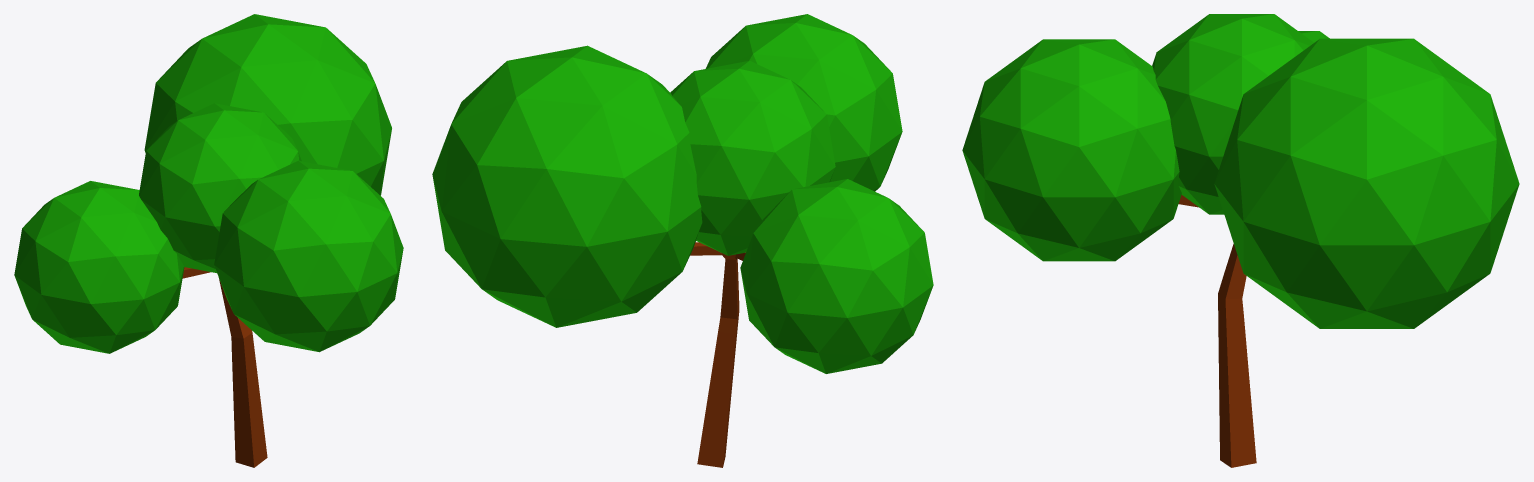
File: SmallTree.fbx
3 renders of one model, left to right at view 1: azimuth 30°, elevation 25°; view 2: azimuth 150°, elevation 25°; view 3: azimuth 270°, elevation 25°, orthographic. The views are drawn at different scales.
Parts seen in each view (by area): view 1: Icosphere.002, Icosphere.001, Icosphere, Icosphere.003, Cube; view 2: Icosphere.001, Icosphere, Icosphere.003, Icosphere.002, Cube; view 3: Icosphere.001, Icosphere.002, Icosphere.003, Cube.
Boxes of the visible parts, x1,y1,x2,y2 form: Icosphere.002: [214, 160, 403, 352]; Icosphere.001: [144, 14, 391, 195]; Icosphere: [14, 181, 184, 353]; Icosphere.003: [139, 103, 301, 272]; Cube: [182, 267, 267, 467]; Icosphere.001: [432, 45, 702, 327]; Icosphere: [740, 179, 933, 373]; Icosphere.003: [670, 60, 835, 255]; Icosphere.002: [705, 14, 902, 191]; Cube: [690, 242, 745, 467]; Icosphere.001: [1214, 38, 1519, 328]; Icosphere.002: [962, 39, 1181, 261]; Icosphere.003: [1152, 14, 1313, 214]; Cube: [1178, 195, 1256, 467].
Bounding box in the file's own units: 1825 × 1756 × 1933.
